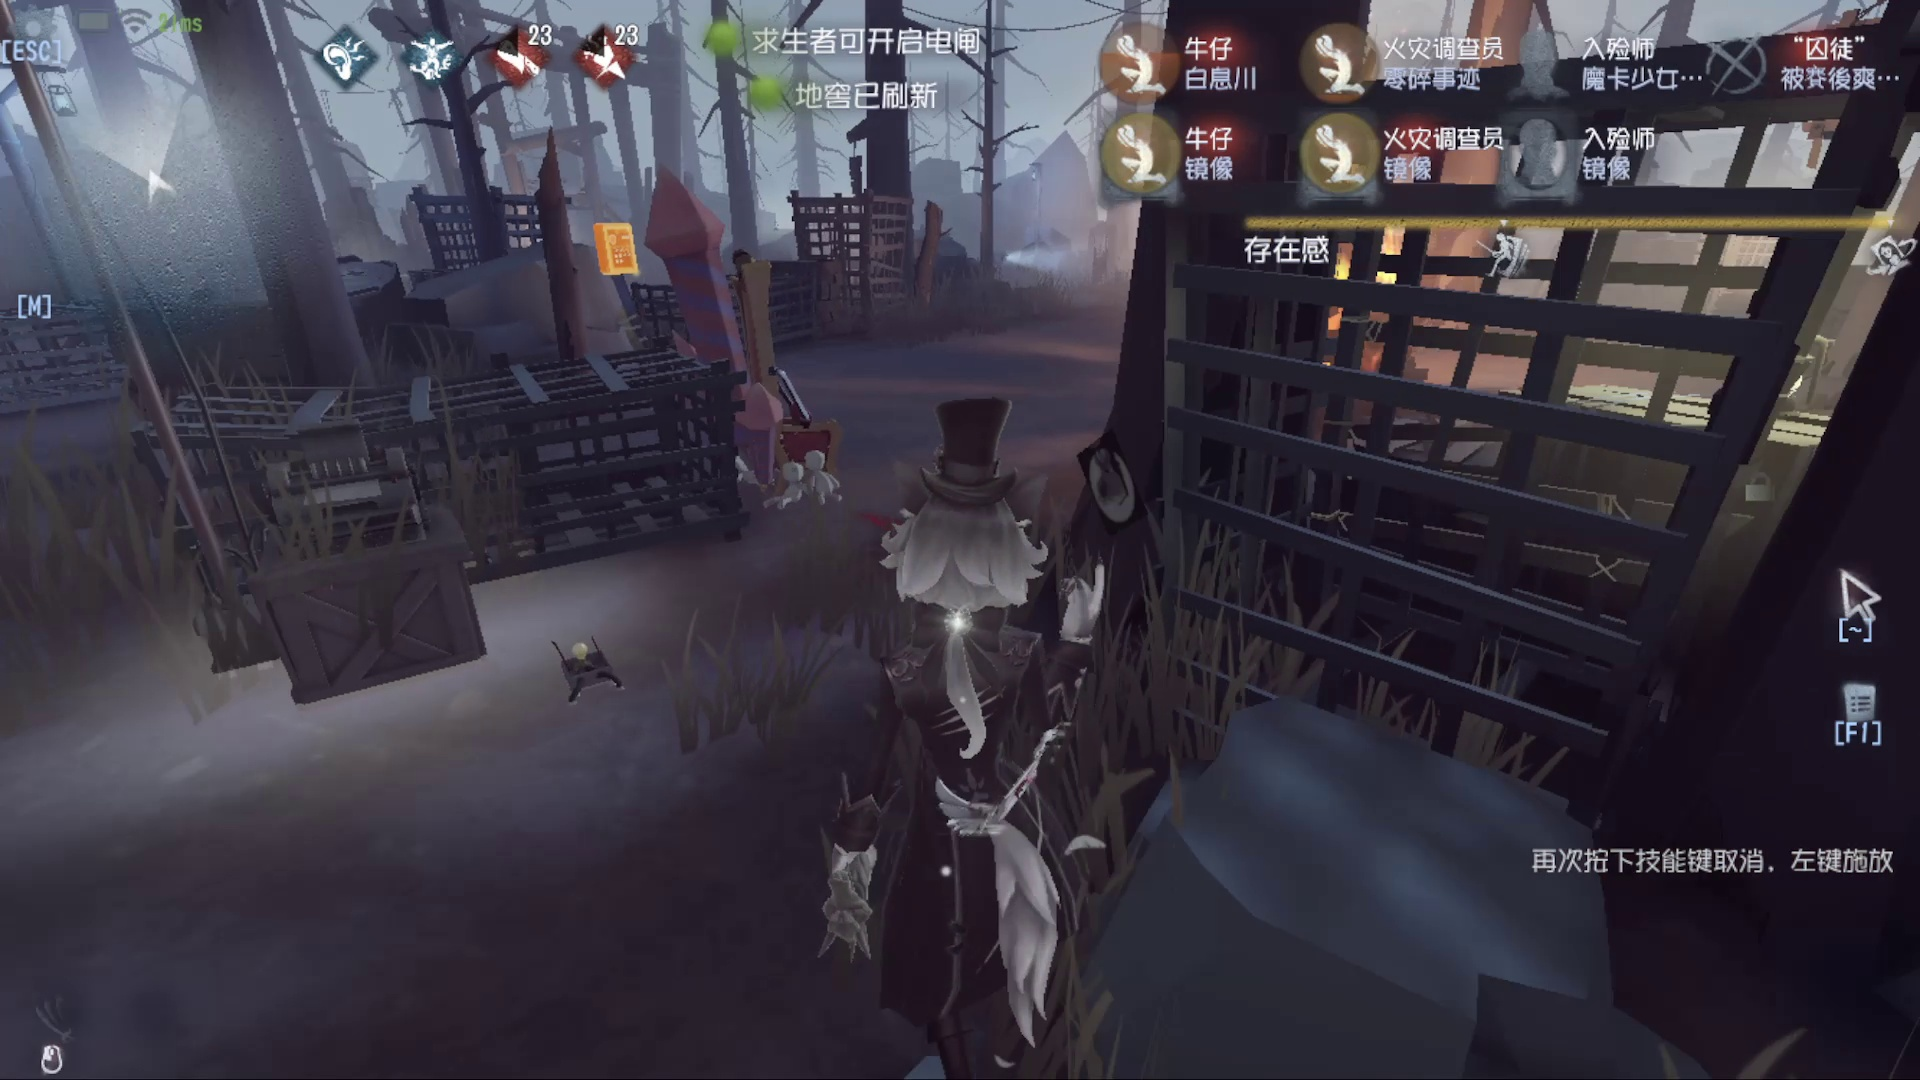狂欢之椅: (634, 160, 868, 529)
